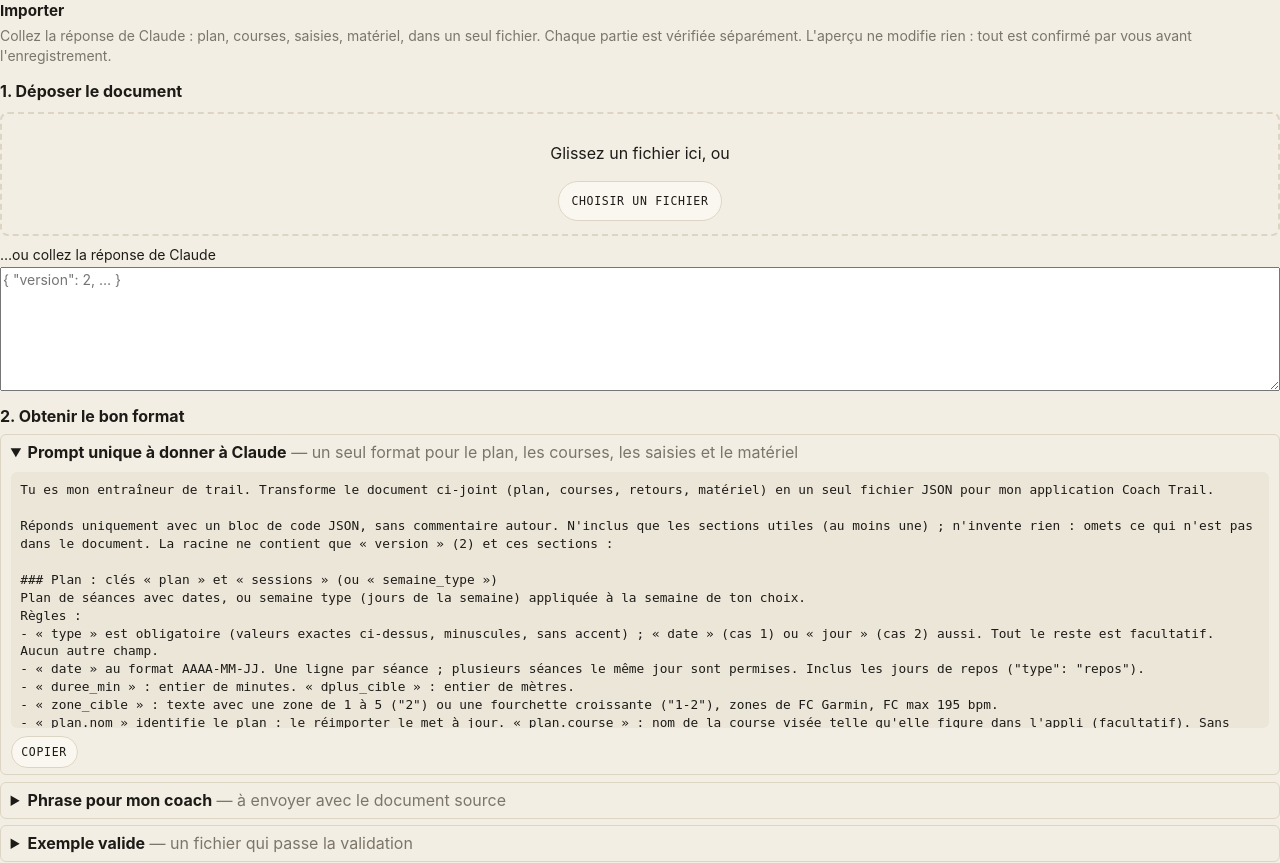
Scenario: Page Importer › un document à quatre sections : un aperçu par section, une seule confirmation
The width and height of the screenshot is (1280, 863).
Click the text box labelled "…ou collez la réponse de Claude" at (640, 329), box [0,267,1279,391]
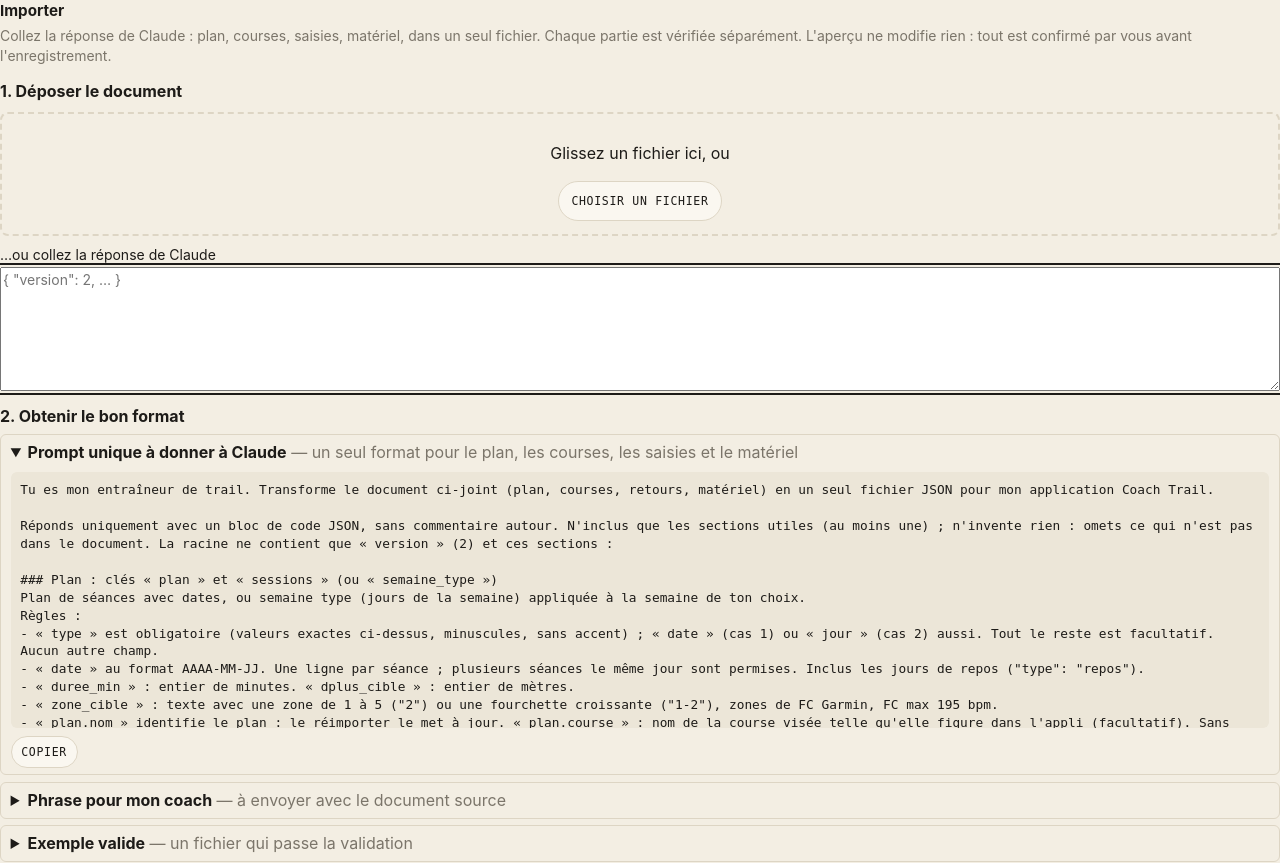
Type keys "{   \"version\": 2,   \"plan\": { \"nom\": \"Fin de prépa 3 Rocs\", \"course\": \"Trail des 3 Rocs\" },   \"sessions\": [     { \"date\": \"2026-11-03\", \"type\": \"footing\", \"duree_min\": 50, \"zone_cible\": \"1-2\", \"dplus_"
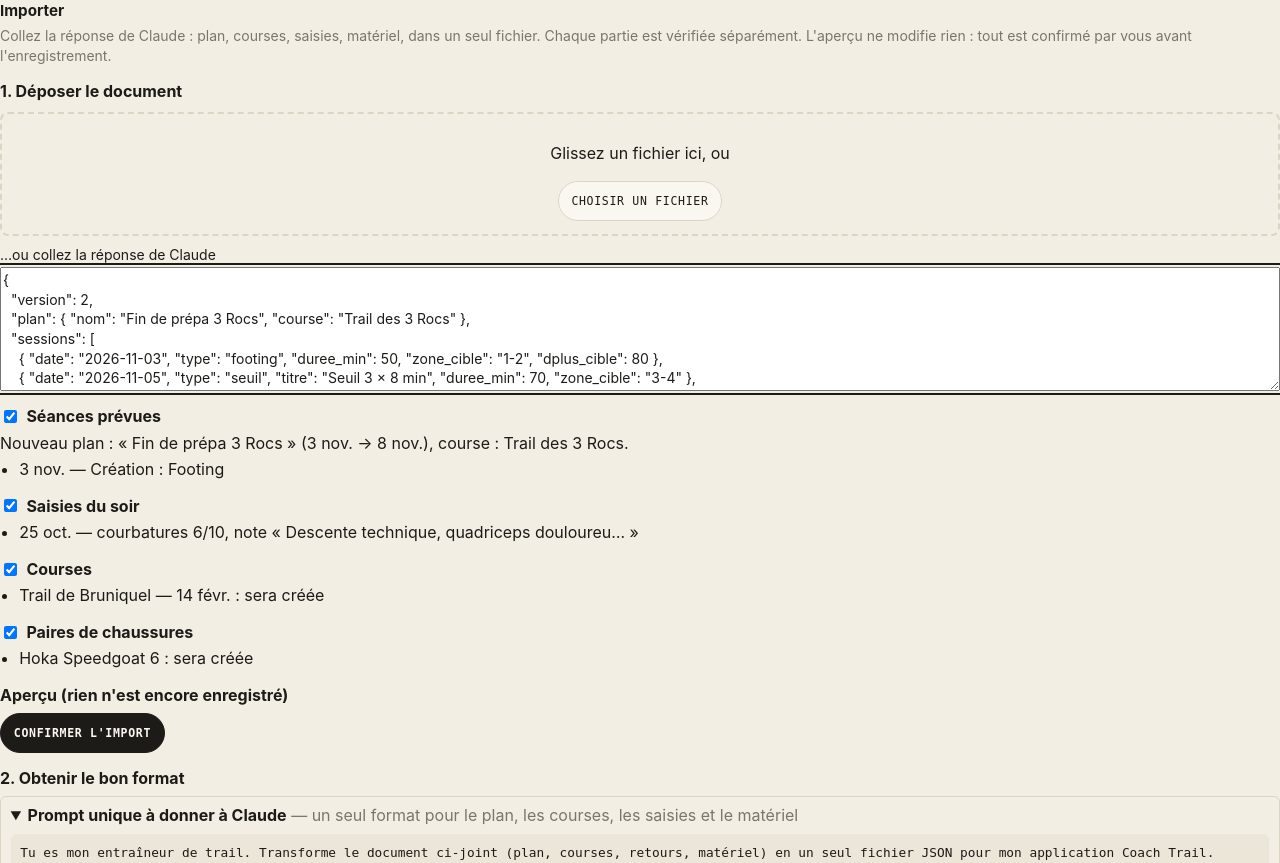
Expected: the text "course : Trail des 3 Rocs" is shown, [0,432,629,452]
Expected: the list item "sera créée" is shown, [19,585,324,605]
Expected: the list item "courbatures 6/10" is shown, [19,522,639,542]
Click the button "Confirmer l'import" at (82, 733), box [0,713,165,753]
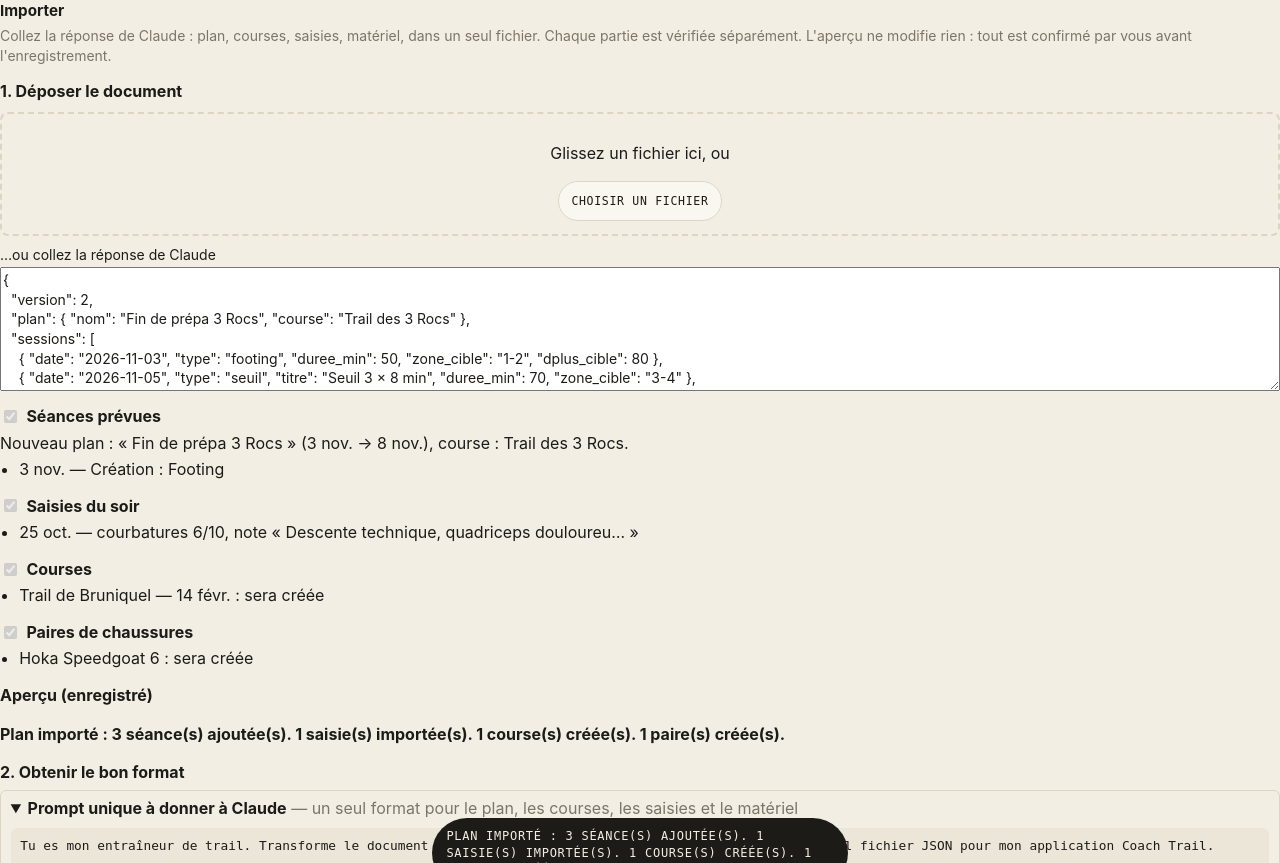
Expected: the button "Confirmer l'import" is gone
